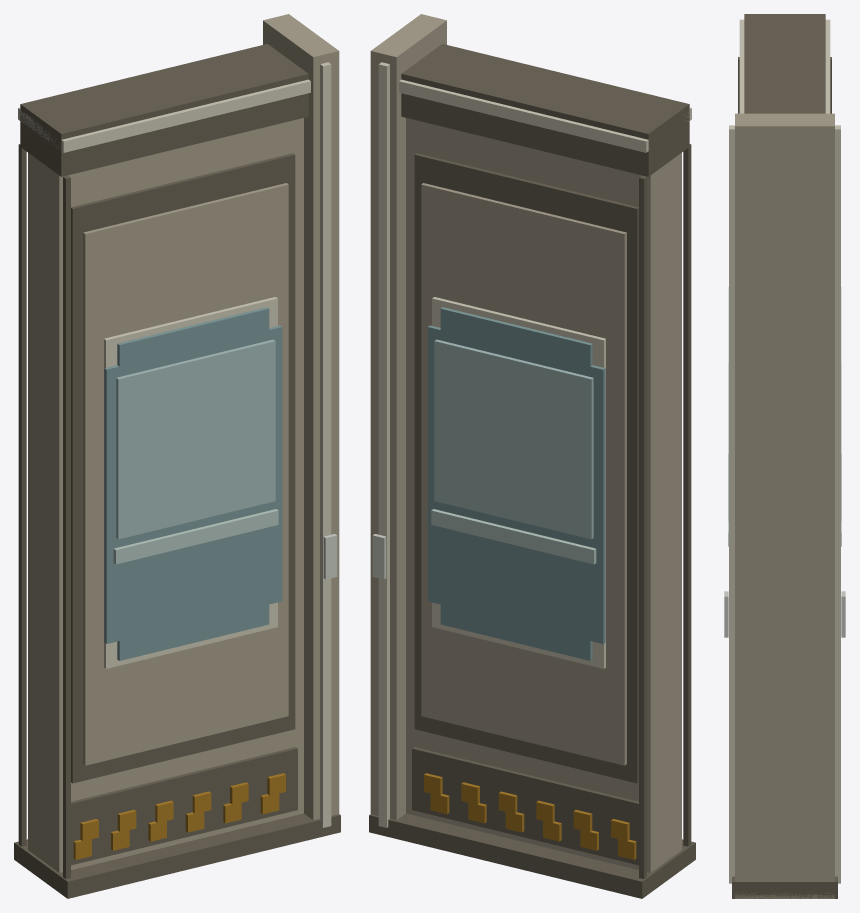
Rendered from CMU3DMedicalDoubleGlassDoor.glb.
3 views of the same model, side by side, from view 1: azimuth 30°, elevation 25°; view 2: azimuth 150°, elevation 25°; view 3: azimuth 270°, elevation 25° (orthographic).
Visible parts, largest first — view 1: inner face panel, single closed door leaf, pale upper reflection, chamfered window center, outer door jamb, leaf recessed face, continuous top track, meeting edge seal (×2), lower hazard band, outer jamb highlight, threshold, top track lip (+5 smaller); view 2: inner face panel back, single closed door leaf, pale upper reflection back, chamfered window center back, outer door jamb, leaf recessed face back, continuous top track, meeting edge seal (×2), lower hazard band back, outer jamb highlight, threshold, chamfered window upper shoulder back (+5 smaller); view 3: outer door jamb, outer jamb highlight (×2), continuous top track, threshold, top track lip.
Part boxes in pixels (box(x1,y1,x2,y2)): inner face panel: box(83, 183, 288, 765); single closed door leaf: box(28, 118, 303, 872); pale upper reflection: box(116, 339, 275, 539); chamfered window center: box(104, 325, 282, 643); outer door jamb: box(263, 14, 339, 820); leaf recessed face: box(71, 153, 295, 783); continuous top track: box(20, 44, 308, 176); meeting edge seal (×2): box(18, 144, 70, 878); lower hazard band: box(71, 747, 297, 865); outer jamb highlight: box(320, 62, 331, 827); threshold: box(14, 813, 340, 898); top track lip: box(18, 79, 310, 152); inner face panel back: box(421, 183, 626, 765); single closed door leaf: box(406, 118, 681, 872); pale upper reflection back: box(434, 339, 593, 539); chamfered window center back: box(427, 325, 605, 643); outer door jamb: box(370, 14, 446, 820); leaf recessed face back: box(414, 153, 638, 783); continuous top track: box(401, 44, 689, 176); meeting edge seal (×2): box(639, 144, 691, 878); lower hazard band back: box(412, 747, 638, 865); outer jamb highlight: box(378, 62, 389, 827); threshold: box(369, 813, 695, 898); chamfered window upper shoulder back: box(440, 307, 592, 366); outer door jamb: box(735, 113, 834, 898); outer jamb highlight (×2): box(729, 125, 840, 883); continuous top track: box(744, 14, 825, 113); threshold: box(732, 876, 837, 898); top track lip: box(739, 19, 830, 113).
Bounding box in the file's own units: 1 × 2.73 × 0.388.
